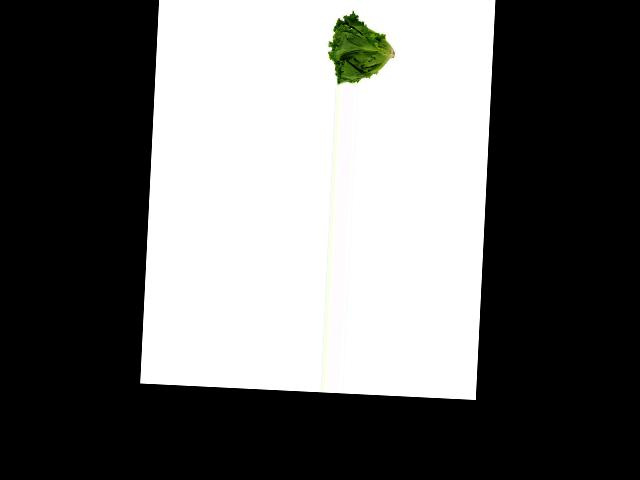lettuce: (323, 13, 398, 88)
